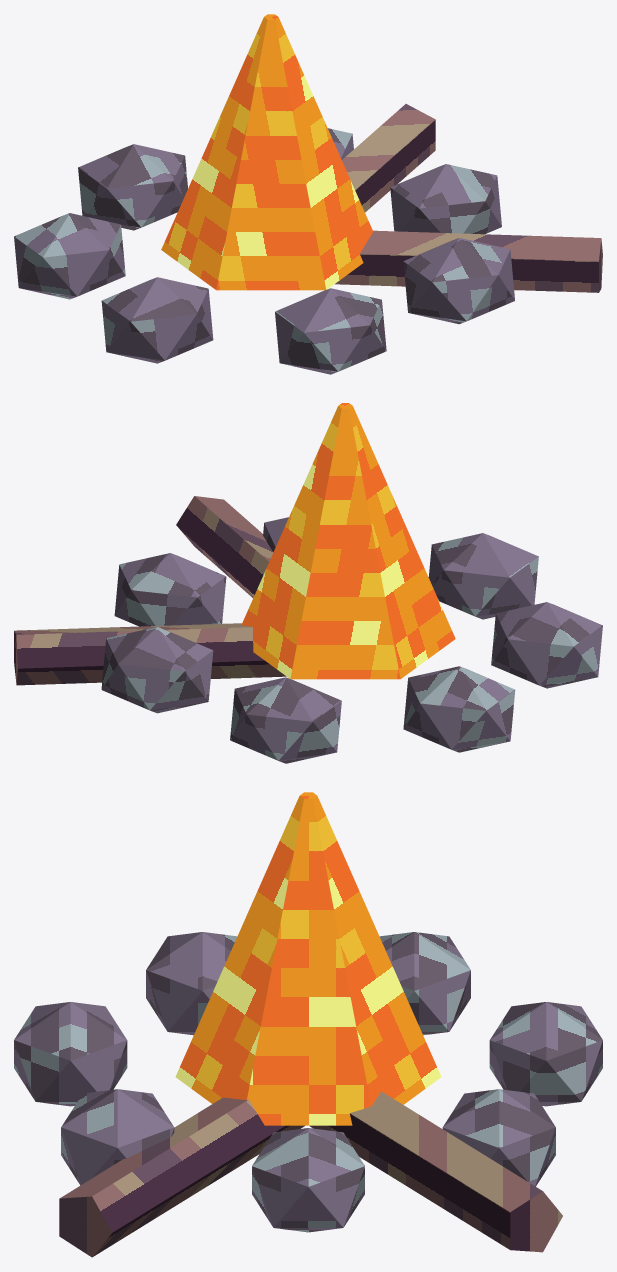
Rendered from r05_fogueira.glb.
The picture shows the model from 3 angles, top to bottom: view 1: azimuth 30°, elevation 25°; view 2: azimuth 150°, elevation 25°; view 3: azimuth 270°, elevation 25°; orthographic projection. The views are drawn at different scales.
Parts seen in each view (by area): view 1: r05_fogueira; view 2: r05_fogueira; view 3: r05_fogueira.
Part boxes in pixels (left/top/right/bottom): r05_fogueira: left=14, top=14, right=602, bottom=374; r05_fogueira: left=14, top=403, right=602, bottom=763; r05_fogueira: left=14, top=792, right=602, bottom=1257.
Size of the model in its own units: 1.44 by 0.83 by 1.33.
Materials: 3 (3 with a texture image).
